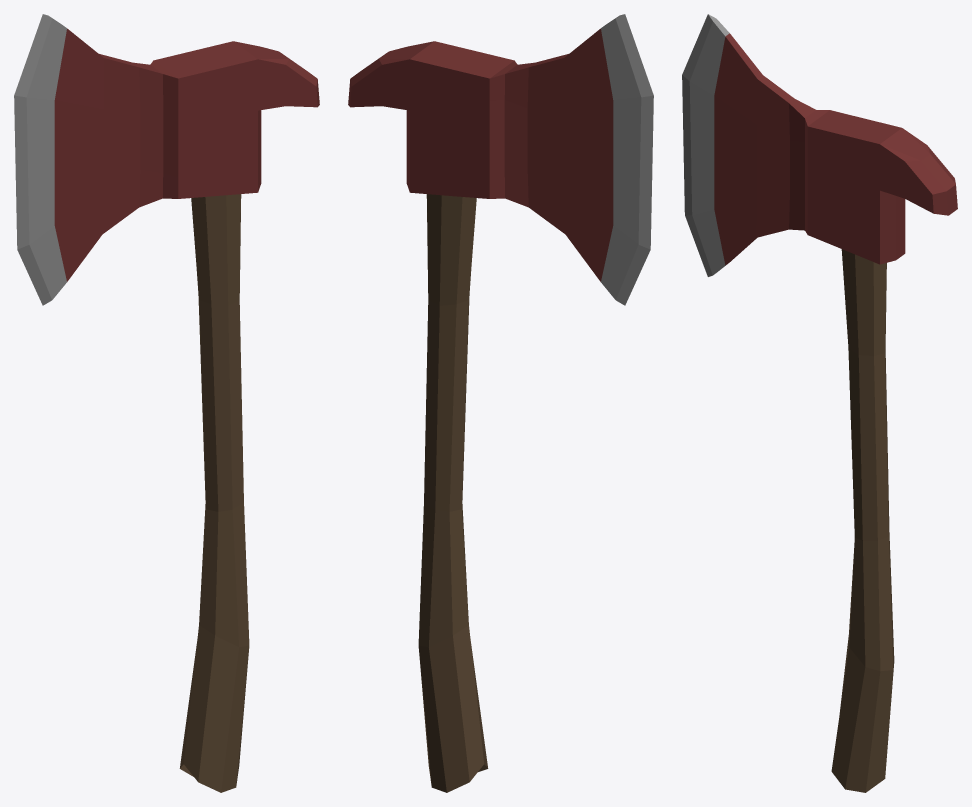
The model's file is Axe.glb.
The picture shows the model from 3 angles, left to right: view 1: azimuth 30°, elevation 25°; view 2: azimuth 150°, elevation 25°; view 3: azimuth 330°, elevation 25°; orthographic projection. The views are drawn at different scales.
Visible parts, largest first — view 1: Axe; view 2: Axe; view 3: Axe.
Part boxes in pixels (x1,y1,x2,y2): Axe: (14, 14, 319, 792); Axe: (348, 14, 653, 792); Axe: (682, 14, 957, 792).
Bounding box in the file's own units: 1.26 × 3.26 × 0.1902.
